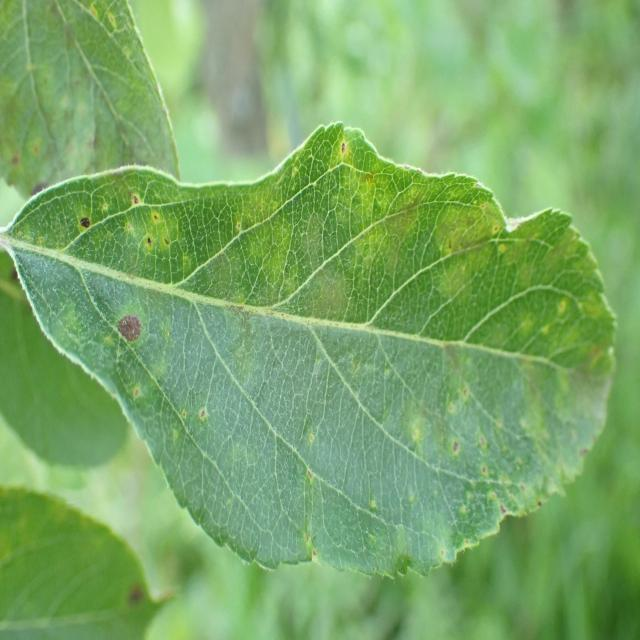frog-eye-leaf-spot: (8, 119, 620, 582)
